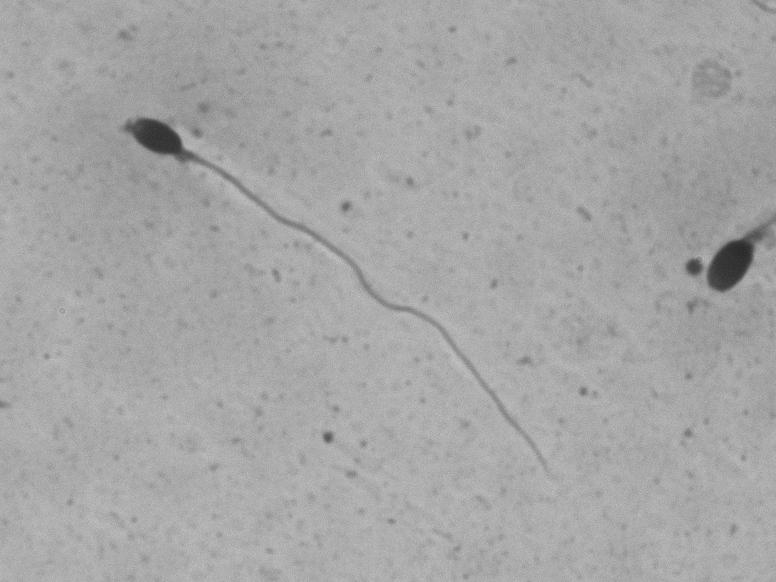Abnormal: (106, 92, 580, 520)
